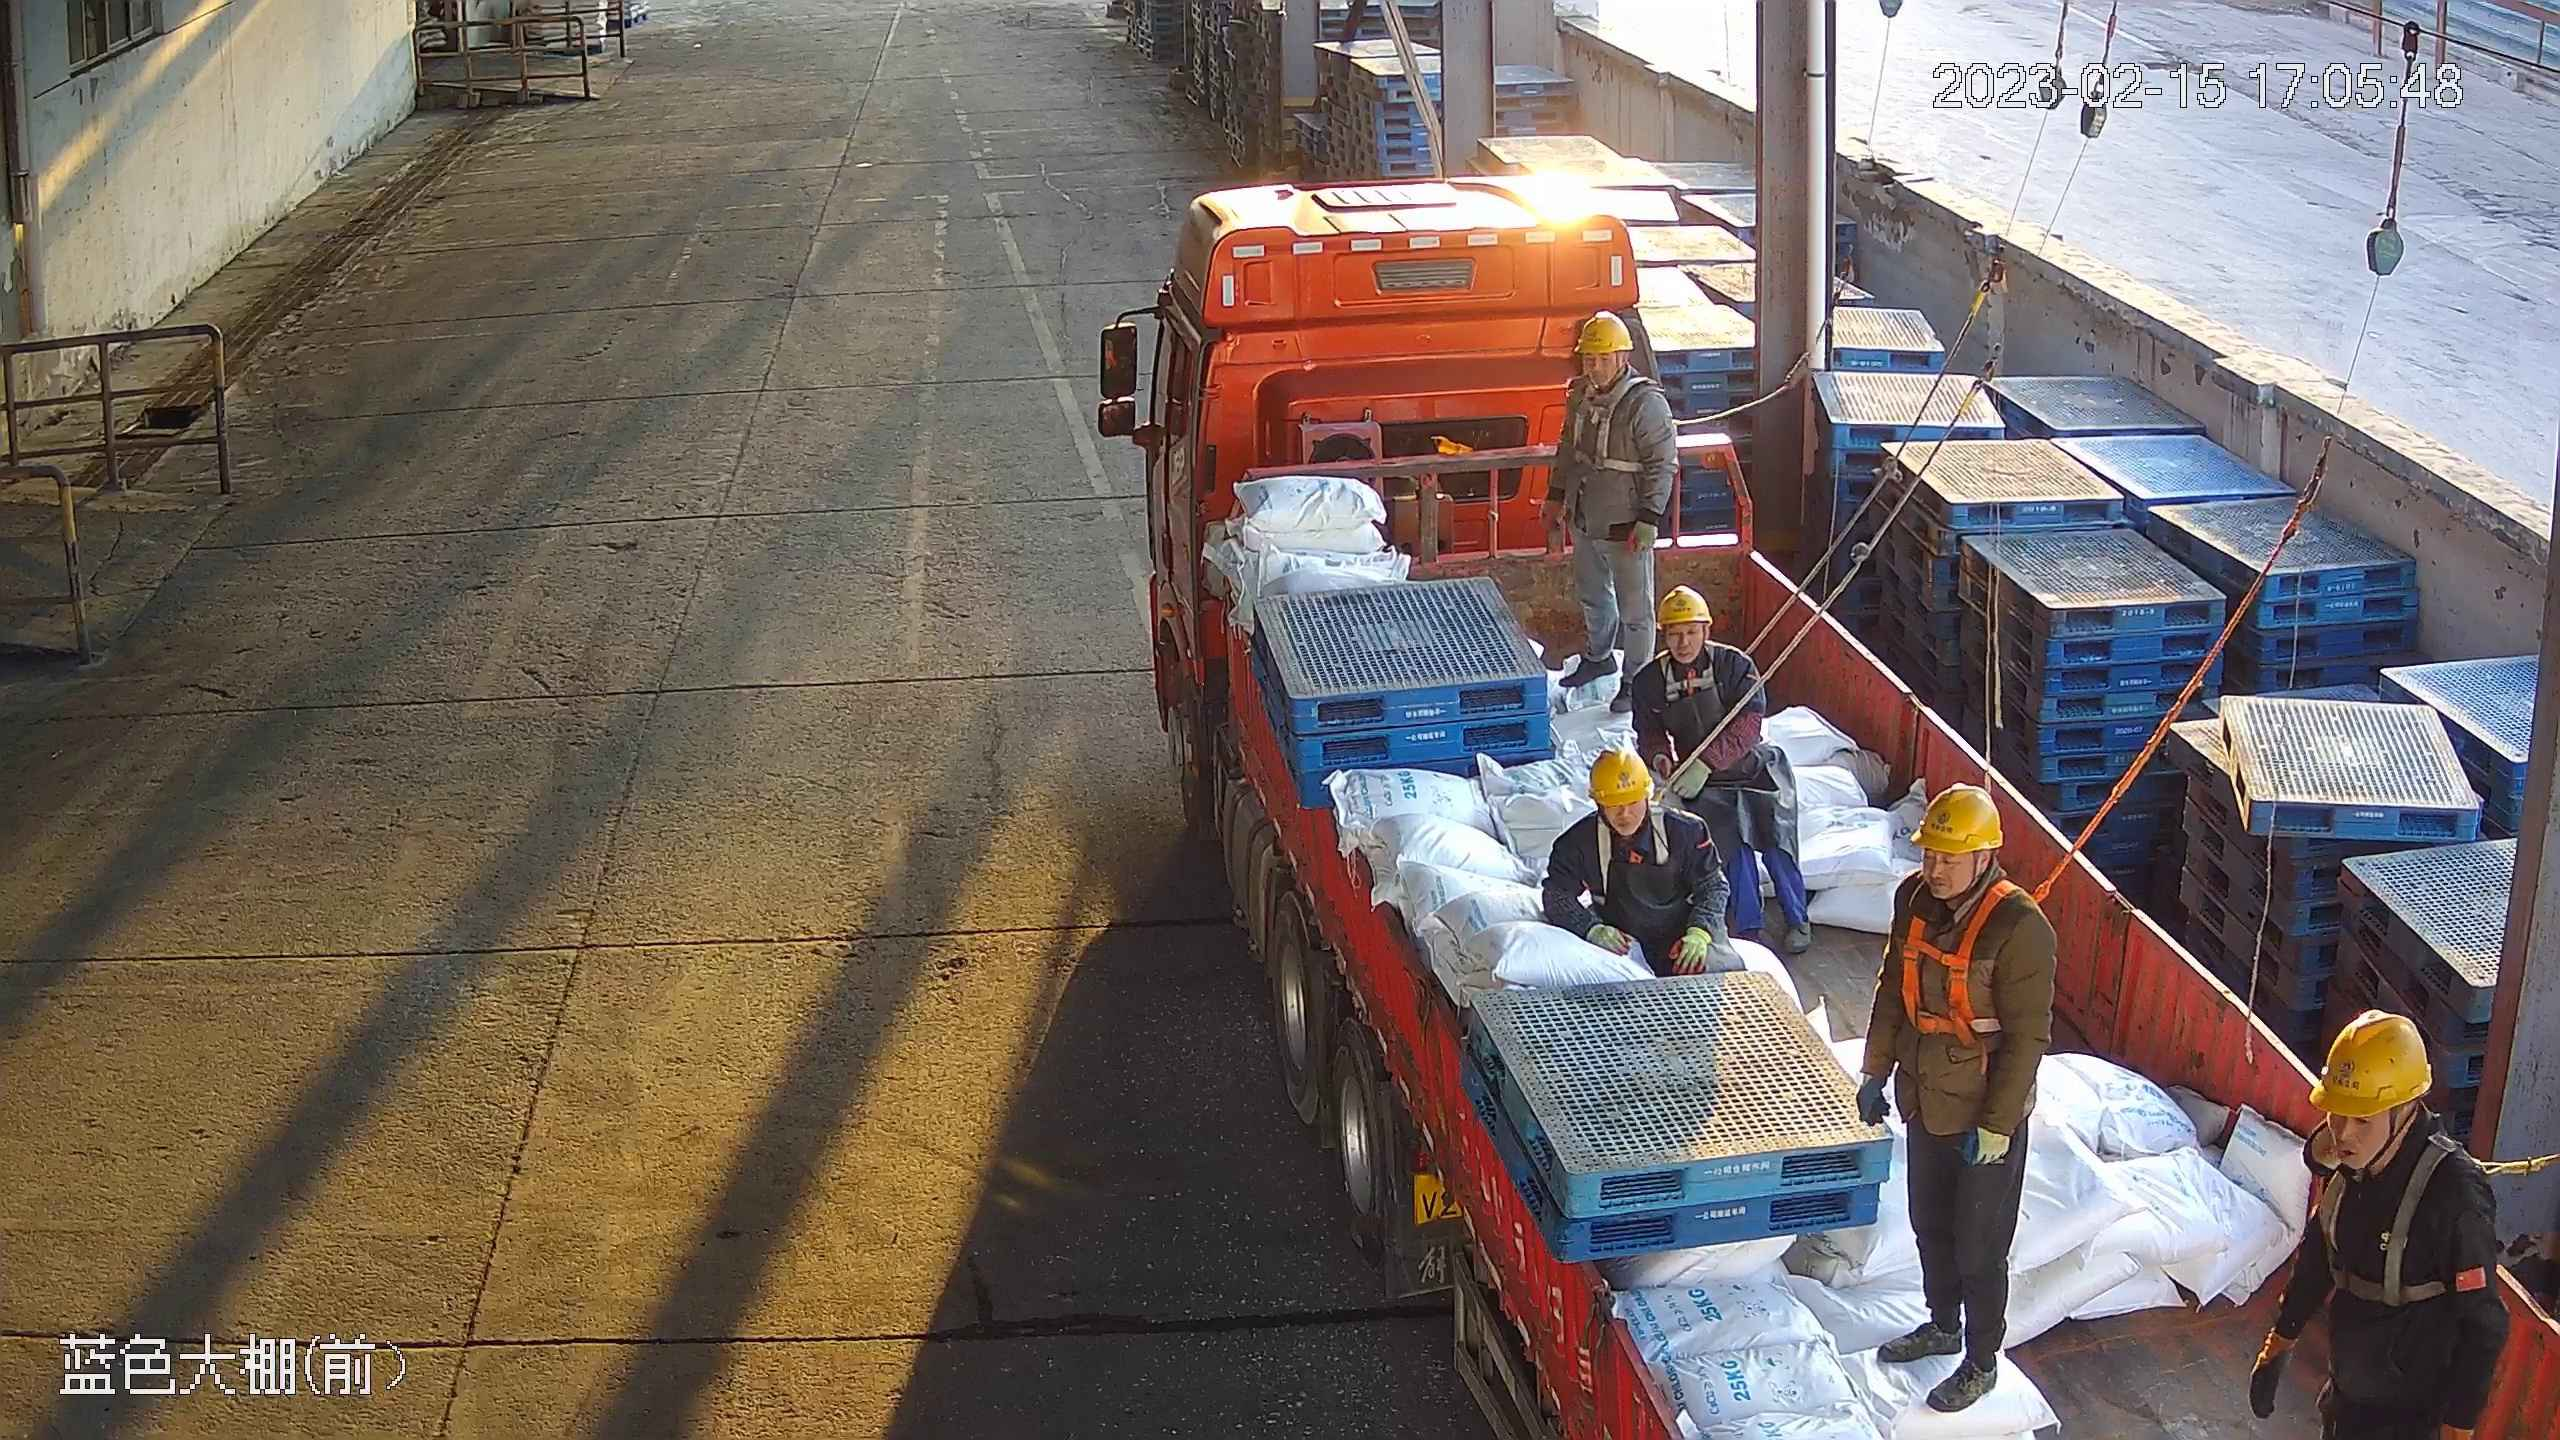belt: (2294, 1141, 2462, 1311), (1883, 885, 2025, 1048), (1561, 379, 1651, 474), (1581, 818, 1677, 893), (1652, 648, 1720, 695)
head: (2251, 1009, 2501, 1308), (1854, 783, 2055, 1016), (1557, 747, 1716, 873), (1542, 308, 1674, 458), (1630, 580, 1764, 708)
helmet: (2309, 1013, 2433, 1118), (1909, 790, 2006, 854), (1588, 750, 1652, 806), (1571, 311, 1638, 358), (1657, 586, 1712, 625)
people: (1854, 784, 2058, 1413), (2243, 1012, 2500, 1440), (1629, 586, 1814, 950), (1539, 310, 1681, 712), (1543, 750, 1748, 974)
truck: (1096, 167, 2560, 1440)
